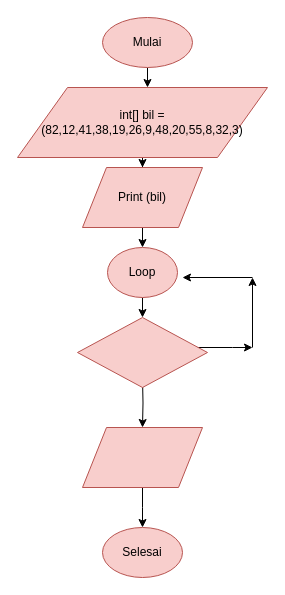
Some shapes in this 285 by 595 pixel diagram are drawn without their labels. The shapes that lost their labels are listed below. From the top down, each one's centre as x and y in pixels, then its label:
point (142, 352): int i=0; i < bil; i++
point (142, 457): Print bil [i]
